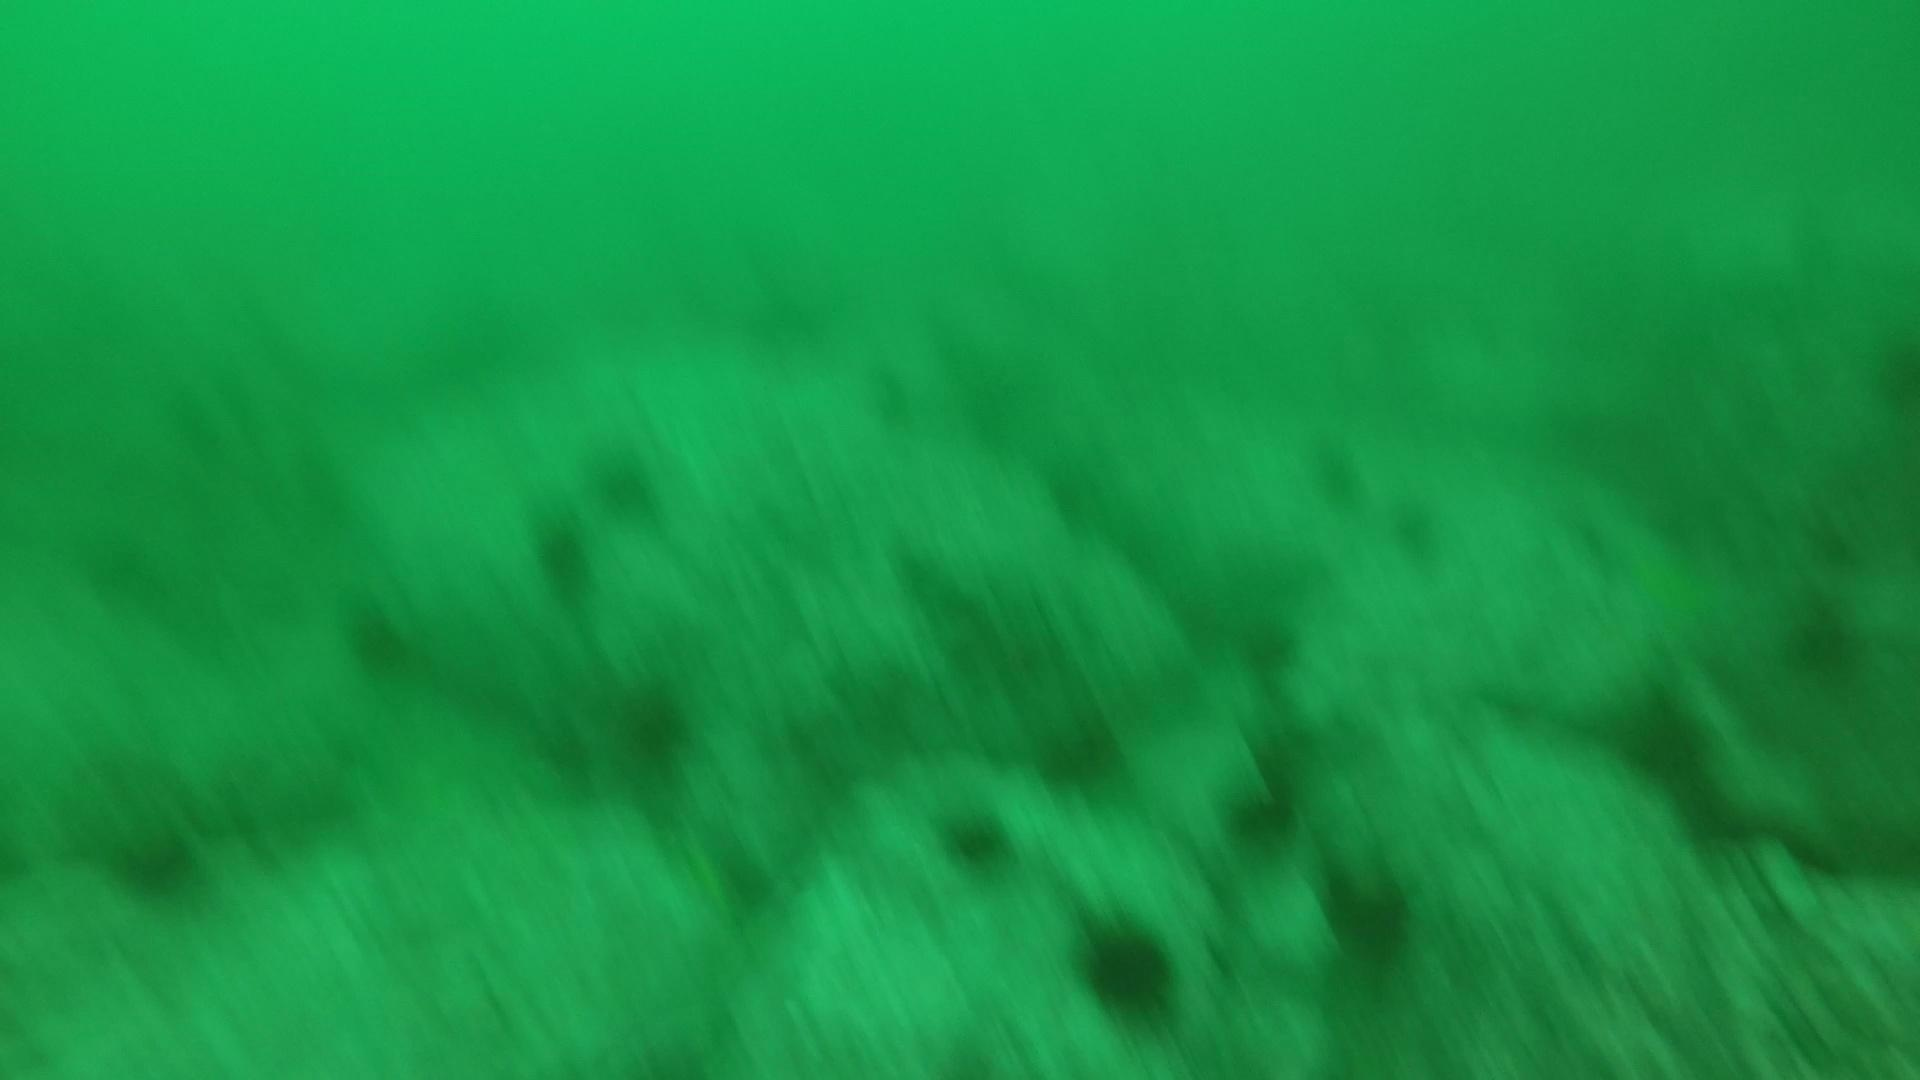echinus: (1071, 911, 1182, 1022), (1316, 861, 1422, 971), (1030, 708, 1130, 798), (107, 819, 208, 905), (1218, 760, 1308, 853), (609, 676, 698, 771), (1780, 597, 1867, 682), (583, 439, 665, 518), (935, 802, 1019, 878), (342, 599, 419, 680), (527, 516, 600, 600), (1234, 611, 1305, 678), (1304, 435, 1369, 508), (1385, 493, 1447, 562)
